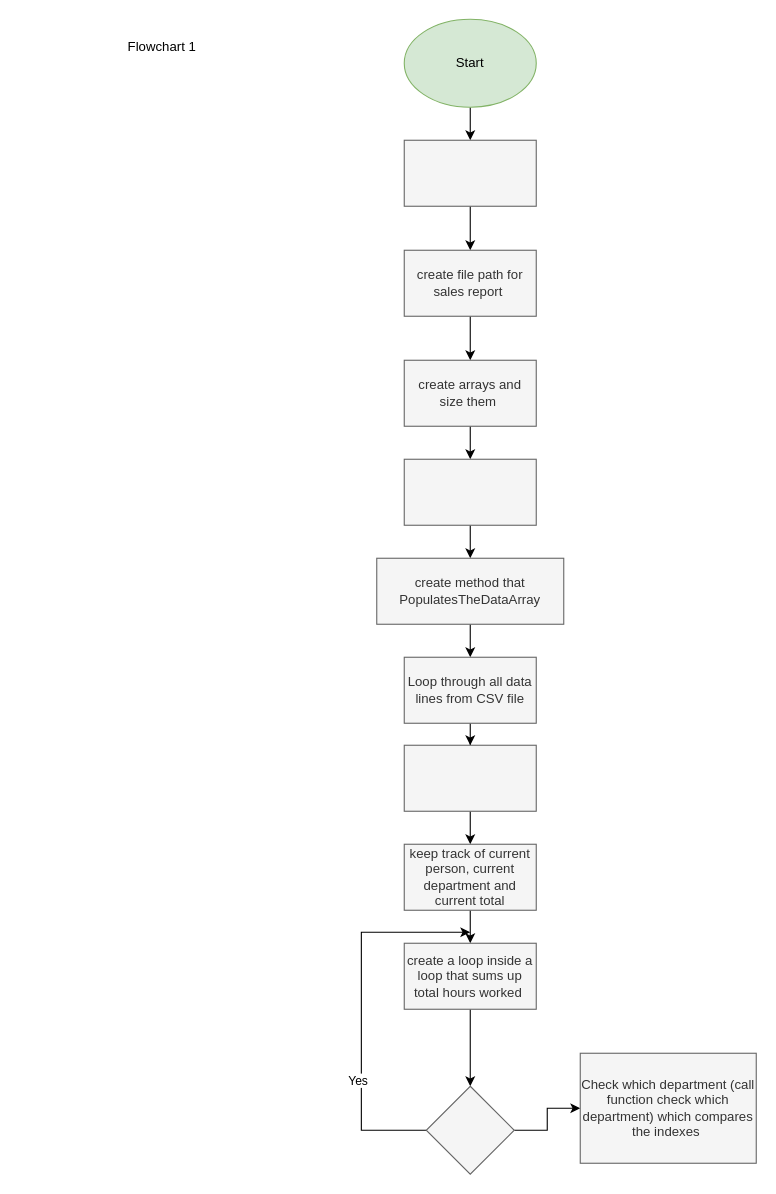
The diagram is 776 pixels wide and 1194 high, and some of its shapes have lost their labels. The shapes that lost their labels are listed below. From the top down, each one's centre as x and y in pixels, then its label:
At [469,172]: "create const filepath".
At [469,491]: "create arrays where all departments are stored".
At [469,777]: "Split into data cells".
At [469,1129]: "More cells".
